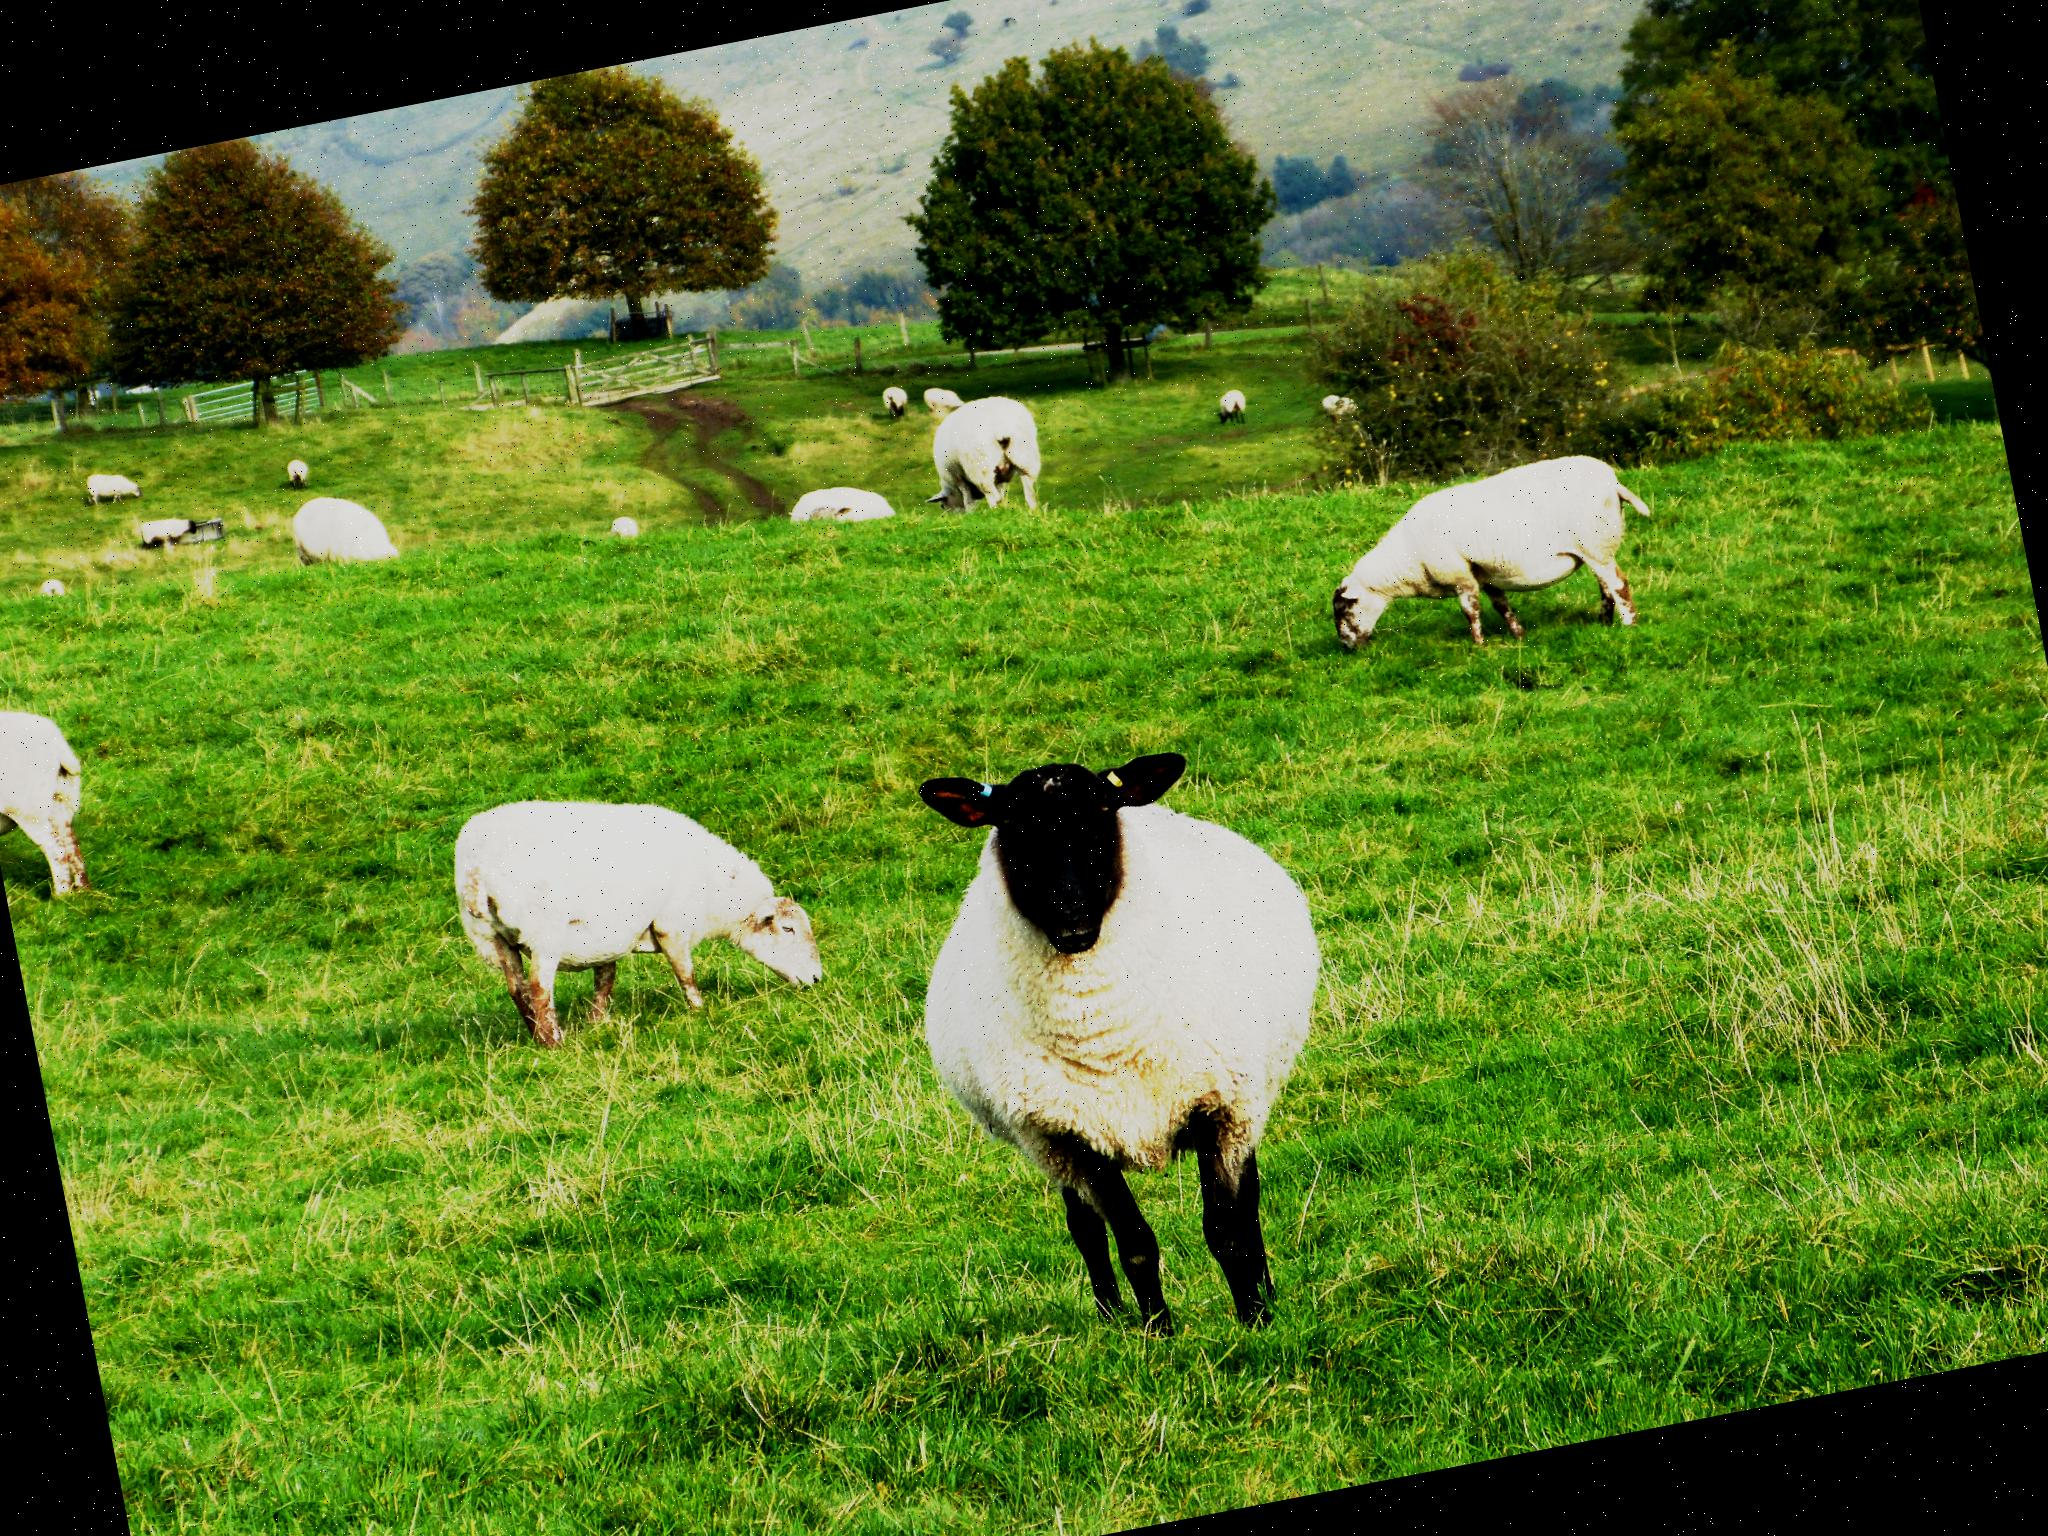Sheep: (874, 707, 1390, 1386), (437, 747, 827, 1068), (1308, 437, 1671, 686), (0, 689, 110, 920), (906, 386, 1050, 528), (284, 482, 397, 576), (782, 474, 897, 536), (872, 384, 914, 424), (1211, 384, 1250, 424)
